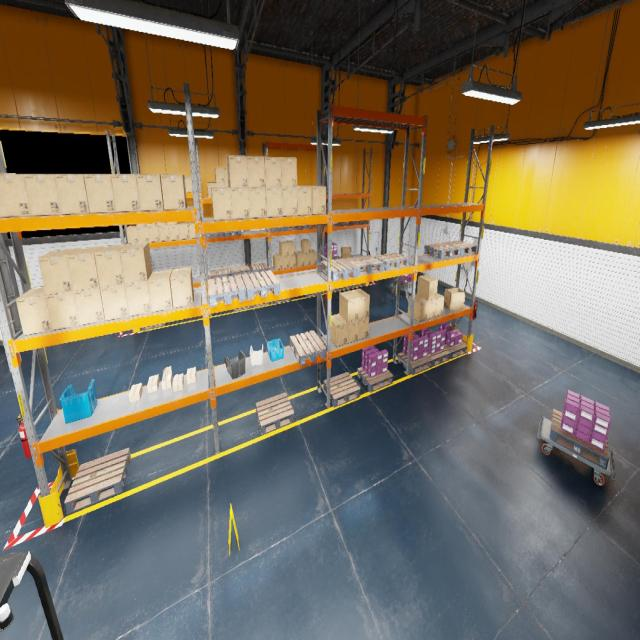box: (38, 248, 79, 294), (16, 286, 52, 336), (24, 173, 62, 216), (67, 246, 103, 291), (54, 173, 90, 214), (0, 174, 32, 217), (95, 243, 126, 287), (120, 242, 152, 284), (46, 292, 79, 330), (73, 288, 105, 326), (84, 174, 115, 213), (111, 174, 140, 212), (100, 284, 129, 320), (136, 174, 164, 211), (148, 270, 172, 312), (170, 267, 194, 308), (160, 174, 187, 210), (125, 280, 151, 316), (227, 155, 248, 188), (211, 187, 232, 220), (339, 290, 359, 322), (230, 188, 250, 219), (350, 288, 370, 318), (264, 156, 282, 188), (247, 156, 265, 187), (417, 274, 438, 300), (408, 295, 428, 321), (331, 314, 347, 346), (249, 188, 266, 218), (266, 187, 282, 217), (281, 157, 297, 187), (417, 294, 436, 319), (444, 288, 465, 310), (311, 185, 326, 214), (297, 186, 312, 215), (282, 187, 297, 216), (342, 316, 358, 343), (161, 366, 173, 390), (128, 383, 142, 402), (358, 317, 369, 340), (147, 374, 159, 393), (126, 225, 138, 243), (173, 373, 184, 392), (435, 293, 444, 316), (178, 222, 189, 240), (168, 225, 180, 240), (137, 227, 149, 242), (158, 225, 169, 241), (148, 226, 159, 242), (187, 367, 196, 384), (279, 241, 289, 256), (286, 240, 295, 256), (273, 254, 282, 270), (207, 182, 216, 198), (214, 168, 224, 182), (295, 251, 304, 266), (188, 222, 196, 238), (301, 252, 310, 266), (301, 239, 310, 253), (280, 254, 289, 268), (341, 246, 351, 258), (185, 177, 192, 192), (310, 250, 316, 264), (289, 255, 295, 268), (224, 168, 228, 182), (158, 222, 168, 226), (136, 224, 148, 227), (216, 183, 225, 187), (147, 223, 158, 226), (168, 222, 179, 224), (225, 183, 228, 186)
forklift: (0, 551, 64, 640)
pallets: (64, 448, 131, 514), (549, 409, 609, 469), (256, 392, 294, 435), (290, 330, 326, 366), (324, 372, 361, 407), (208, 275, 246, 307), (241, 270, 280, 300), (357, 367, 393, 392), (320, 258, 358, 281), (344, 256, 384, 276), (398, 352, 432, 375), (374, 252, 409, 271), (424, 243, 460, 259), (443, 240, 478, 256), (428, 348, 450, 366), (444, 342, 467, 358), (210, 268, 230, 280), (230, 265, 250, 277), (393, 278, 412, 290), (250, 262, 268, 274), (142, 323, 166, 330), (224, 230, 241, 237), (206, 232, 224, 238), (321, 255, 339, 261), (252, 302, 269, 308), (286, 225, 302, 231), (233, 306, 252, 311), (274, 298, 291, 303), (270, 227, 286, 232), (335, 221, 354, 225), (324, 288, 339, 293), (302, 224, 316, 228), (340, 286, 352, 290), (353, 283, 365, 287), (354, 220, 368, 223), (306, 293, 316, 297)
